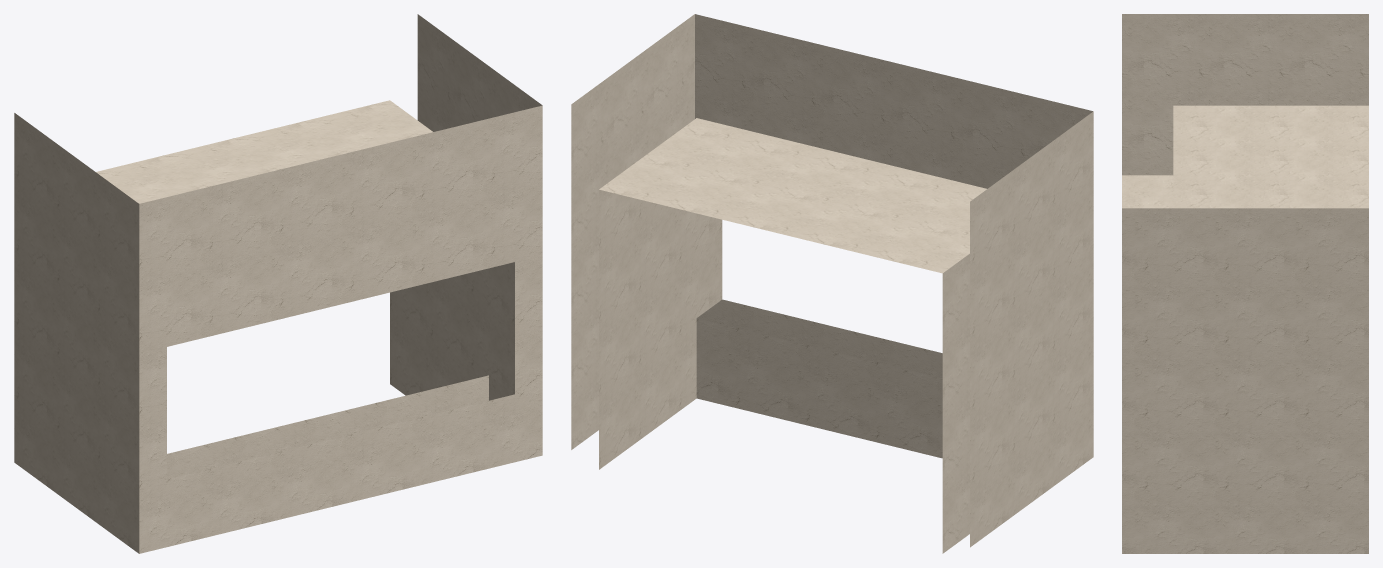
File: counter_block01.fbx
3 views of the same model, side by side, from view 1: azimuth 30°, elevation 25°; view 2: azimuth 150°, elevation 25°; view 3: azimuth 270°, elevation 25° (orthographic).
Parts seen in each view (by area): view 1: guild_couter01; view 2: guild_couter01; view 3: guild_couter01.
Boxes of the visible parts, x1=… form: guild_couter01: x1=14, y1=14, x2=542, y2=553; guild_couter01: x1=571, y1=14, x2=1093, y2=553; guild_couter01: x1=1122, y1=14, x2=1368, y2=553.
Bounding box in the file's own units: 2600 × 2237 × 1394.
